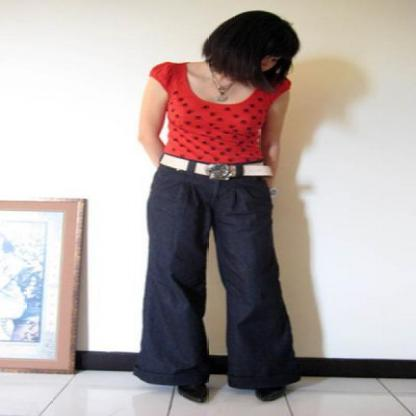pants: (126, 158, 302, 390)
shirt: (150, 62, 286, 166)
shoe: (178, 382, 285, 402)
